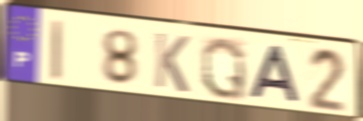2: (307, 46, 349, 114)
8: (99, 27, 139, 87)
A: (248, 43, 303, 106)
I: (49, 18, 64, 84)
K: (152, 30, 191, 96)
Q: (200, 34, 248, 102)
